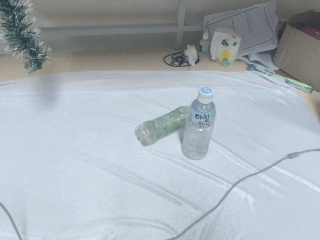bottle: (179, 86, 217, 160), (133, 105, 188, 148)
box: (272, 7, 320, 94)
